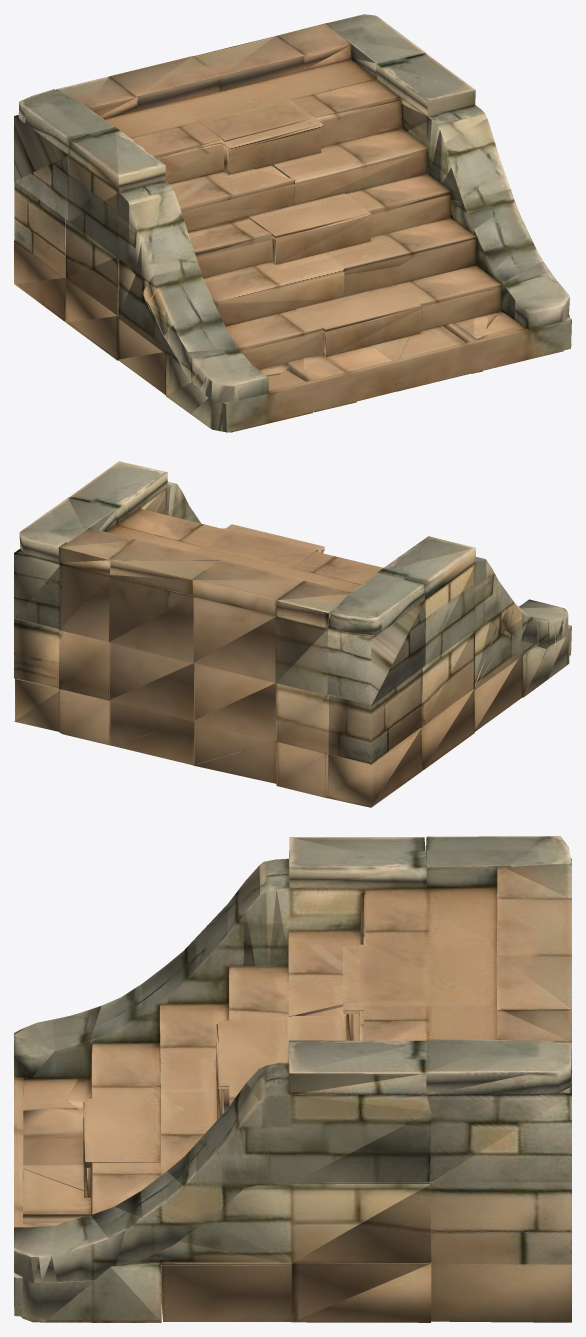
Rendered from stone-stairs.glb.
The picture shows the model from 3 angles, top to bottom: view 1: azimuth 30°, elevation 25°; view 2: azimuth 150°, elevation 25°; view 3: azimuth 270°, elevation 25°; orthographic projection. The views are drawn at different scales.
Bounding box in the file's own units: 2 × 1 × 2.
Materials: 1 (1 with a texture image).
